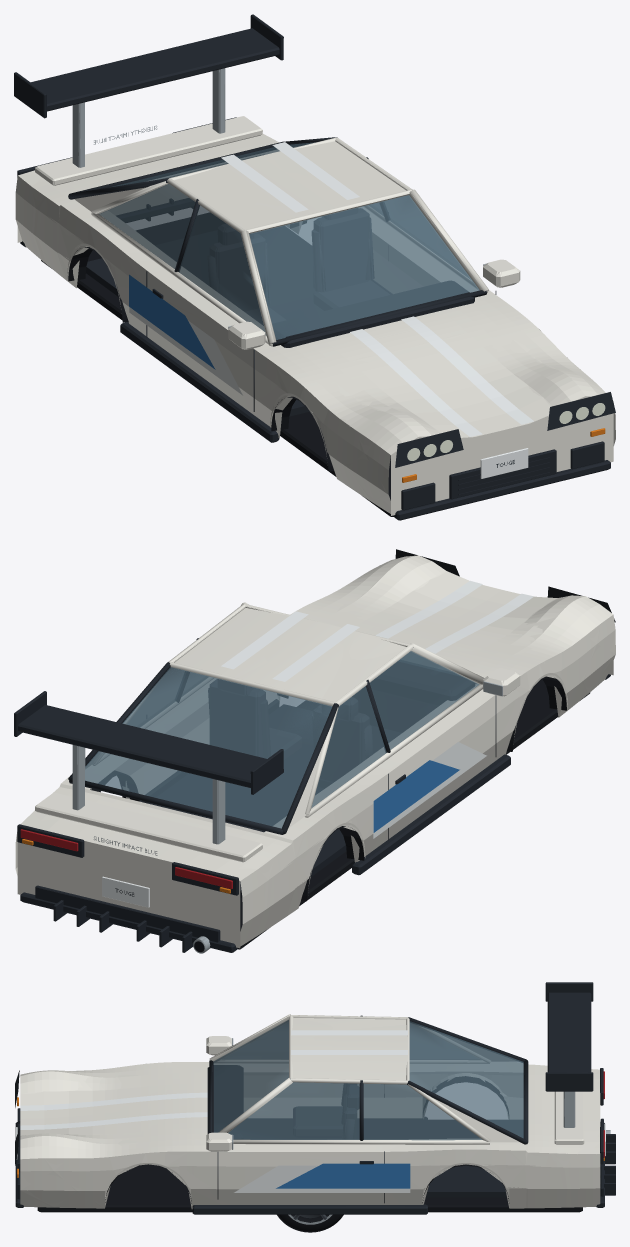
The model's file is sileighty.glb.
The picture shows the model from 3 angles, top to bottom: view 1: azimuth 30°, elevation 25°; view 2: azimuth 150°, elevation 25°; view 3: azimuth 270°, elevation 25°; orthographic projection. The views are drawn at different scales.
Visible parts, largest first — view 1: LOD0_body, LOD0_cabin, LOD0_glass, LOD1_glass, LOD1_body, LOD0_hood, LOD0_spoiler_gt, LOD1_hood, LOD1_cabin, LOD0_spoiler_stock, LOD1_spoiler_gt, LOD0_vinyl_apex (+2 smaller); view 2: LOD0_body, LOD0_cabin, LOD0_glass, LOD1_glass, LOD1_body, LOD0_spoiler_gt, LOD0_hood, LOD1_hood, LOD1_cabin, LOD0_spoiler_stock, LOD1_spoiler_gt, LOD0_vinyl_apex (+3 smaller); view 3: LOD0_body, LOD1_glass, LOD0_glass, LOD0_cabin, LOD1_body, LOD0_hood, LOD0_spoiler_gt, LOD1_hood, LOD0_vinyl_apex, LOD1_cabin, LOD0_vinyl_twin, LOD1_vinyl_twin (+5 smaller).
Boxes of the visible parts, x1,y1,x2,y2 form: LOD0_body: (15,117,615,520); LOD0_cabin: (68,137,488,416); LOD0_glass: (99,143,479,339); LOD1_glass: (99,142,479,339); LOD1_body: (17,134,615,520); LOD0_hood: (276,299,597,442); LOD0_spoiler_gt: (14,14,283,167); LOD1_hood: (304,311,571,437); LOD1_cabin: (70,138,488,416); LOD0_spoiler_stock: (35,116,262,185); LOD1_spoiler_gt: (32,16,283,167); LOD0_vinyl_apex: (129,274,242,395); LOD0_body: (17,549,615,953); LOD0_cabin: (68,602,484,897); LOD0_glass: (85,651,479,828); LOD1_glass: (85,651,478,827); LOD1_body: (15,576,615,953); LOD0_spoiler_gt: (14,691,283,844); LOD0_hood: (305,555,598,686); LOD1_hood: (337,561,557,675); LOD1_cabin: (69,604,482,895); LOD0_spoiler_stock: (35,792,262,862); LOD1_spoiler_gt: (14,691,283,843); LOD0_vinyl_apex: (373,742,486,838); LOD0_body: (15,1036,615,1214); LOD1_glass: (213,1020,523,1140); LOD0_glass: (213,1020,523,1139); LOD0_cabin: (207,1014,528,1197); LOD1_body: (16,1036,605,1214); LOD0_hood: (20,1067,208,1150); LOD0_spoiler_gt: (545,982,593,1127); LOD1_hood: (20,1071,191,1143); LOD0_vinyl_apex: (234,1163,410,1192); LOD1_cabin: (210,1015,528,1197); LOD0_vinyl_twin: (23,1030,407,1129); LOD1_vinyl_twin: (20,1030,407,1129).
Bounding box in the file's own units: 1.95 × 1.73 × 4.69.
